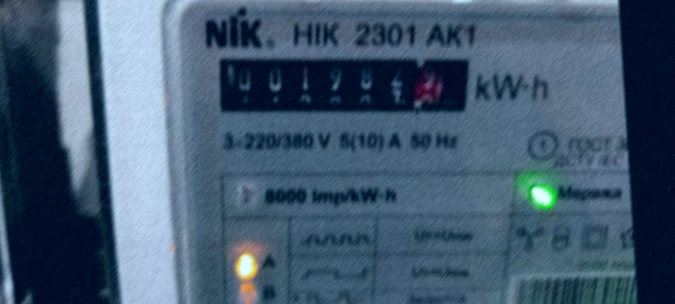0: (267, 63, 285, 93), (237, 62, 254, 92)
1: (299, 61, 312, 91)
2: (389, 58, 408, 88)
8: (359, 61, 376, 90)
9: (420, 62, 442, 91), (328, 62, 344, 92)
screen: (201, 28, 488, 141)
